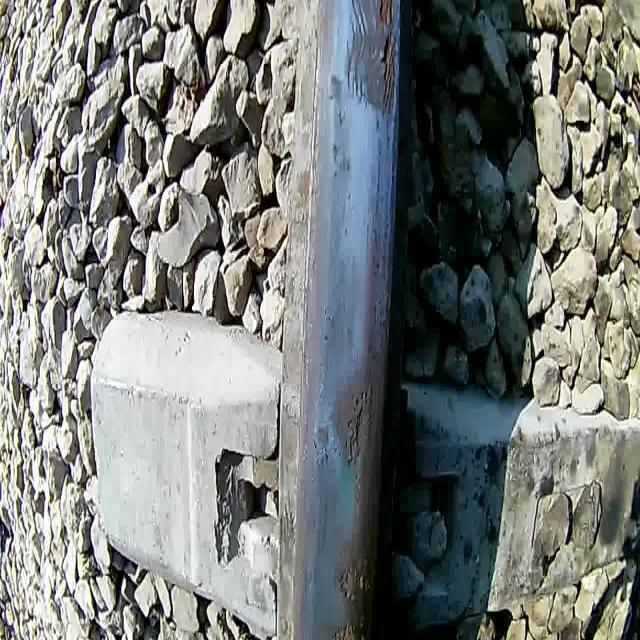Spallings: (344, 376, 374, 470), (376, 0, 397, 118), (337, 557, 376, 602), (328, 613, 367, 640)
Squats: (344, 0, 404, 127), (312, 369, 379, 479), (318, 530, 378, 640)
